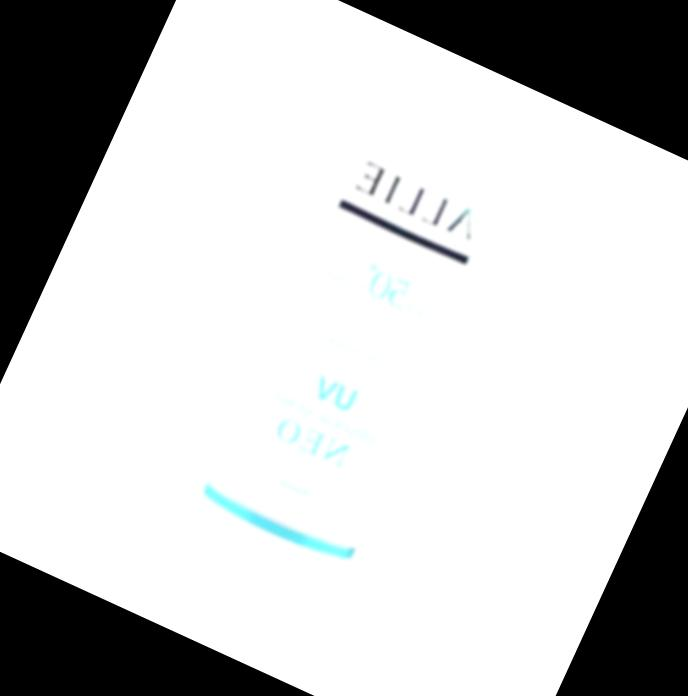cosmetic: (130, 52, 574, 662)
